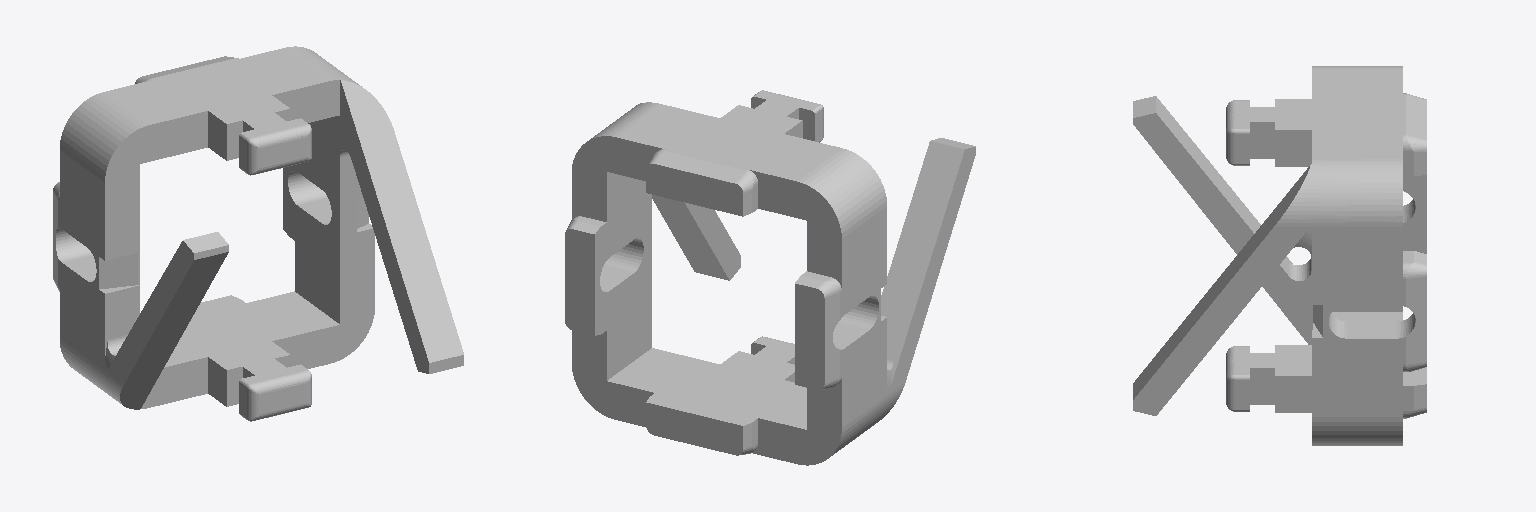
File: buttonbottom.obj
The picture shows the model from 3 angles: view 1: azimuth 30°, elevation 25°; view 2: azimuth 150°, elevation 25°; view 3: azimuth 270°, elevation 25°; orthographic projection.
Visible parts, largest first — view 1: mmGroup0; view 2: mmGroup0; view 3: mmGroup0.
Boxes of the visible parts, box(x1,y1,x2,y2) form: mmGroup0: box(53, 46, 463, 421); mmGroup0: box(565, 90, 975, 465); mmGroup0: box(1133, 66, 1426, 445).
Size of the model in its own units: 25.4 by 25.4 by 23.85.